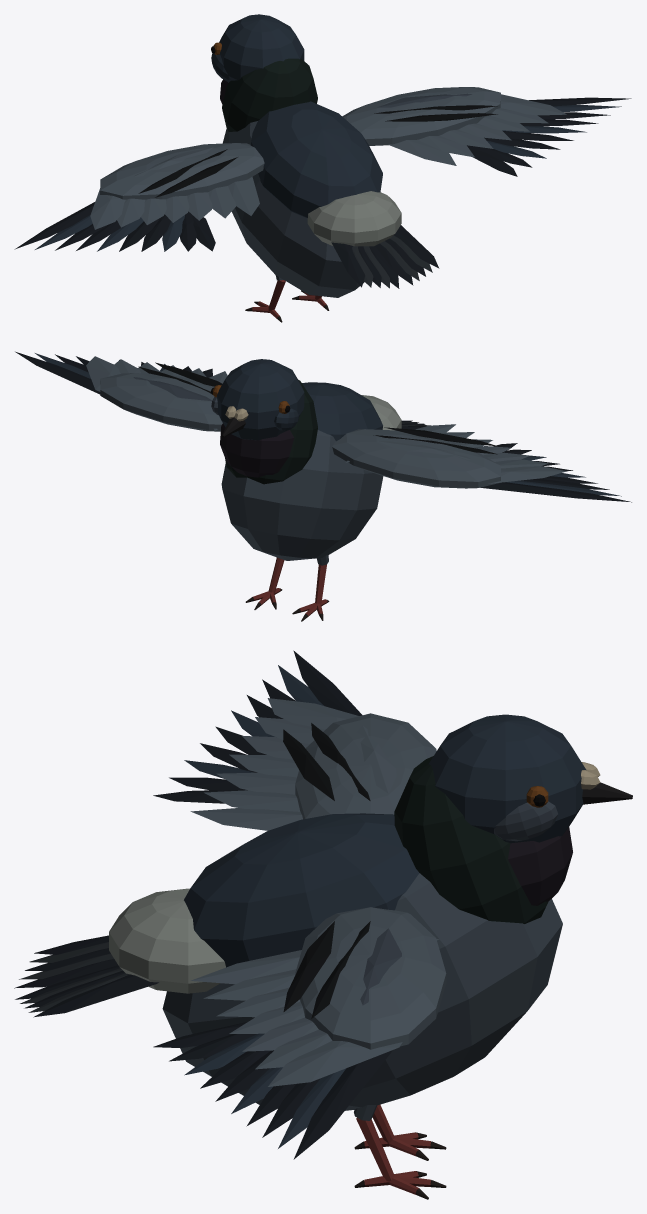
The model's file is LoftPigeon.fbx.
The picture shows the model from 3 angles, top to bottom: view 1: azimuth 30°, elevation 25°; view 2: azimuth 150°, elevation 25°; view 3: azimuth 270°, elevation 25°; orthographic projection. The views are drawn at different scales.
Visible parts, largest first — view 1: Breast, LeftWing, RightWing, NeckHead, RightTail, LeftTail, LeftFoot; view 2: Breast, LeftWing, NeckHead, RightWing, LeftFoot, RightFoot; view 3: Breast, RightWing, NeckHead, LeftWing, RightTail, LeftTail, RightFoot, LeftFoot.
Boxes of the visible parts, <box> form: Breast: <box>222,101,401,297</box>; LeftWing: <box>14,143,264,251</box>; RightWing: <box>342,87,631,176</box>; NeckHead: <box>211,14,317,131</box>; RightTail: <box>375,225,439,285</box>; LeftTail: <box>331,242,399,288</box>; LeftFoot: <box>245,275,285,322</box>; Breast: <box>221,382,401,560</box>; LeftWing: <box>332,424,631,502</box>; NeckHead: <box>211,359,317,484</box>; RightWing: <box>15,351,227,431</box>; LeftFoot: <box>292,555,329,621</box>; RightFoot: <box>245,557,284,609</box>; Breast: <box>109,813,562,1110</box>; RightWing: <box>153,907,446,1159</box>; NeckHead: <box>394,714,632,923</box>; LeftWing: <box>153,650,436,830</box>; RightTail: <box>15,965,158,1017</box>; LeftTail: <box>14,935,117,988</box>; RightFoot: <box>354,1105,446,1199</box>; LeftFoot: <box>354,1104,446,1160</box>.
Size of the model in its own units: 0.608 by 0.2485 by 0.3119.
